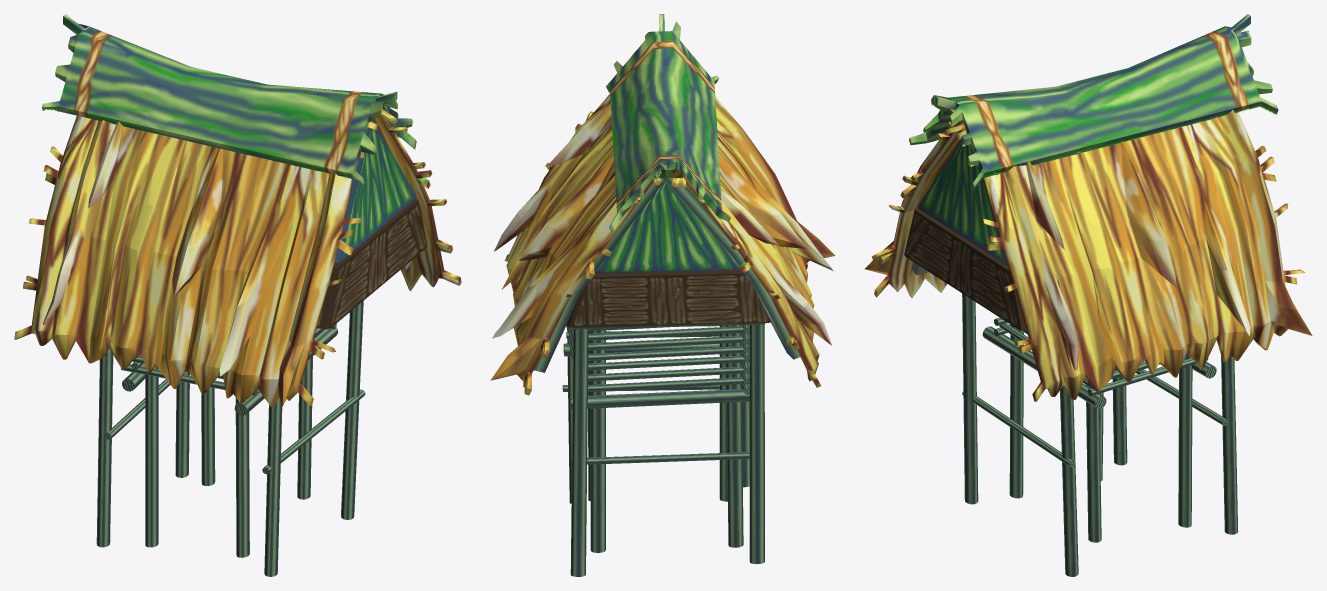
Rendered from Maison III.FBX.
The picture shows the model from 3 angles, left to right: view 1: azimuth 30°, elevation 25°; view 2: azimuth 150°, elevation 25°; view 3: azimuth 270°, elevation 25°; orthographic projection. The views are drawn at different scales.
Visible parts, largest first — view 1: ModeleMaison004; view 2: ModeleMaison004; view 3: ModeleMaison004.
Part boxes in pixels (<box>): ModeleMaison004: <box>14,14,461,576</box>; ModeleMaison004: <box>490,14,835,576</box>; ModeleMaison004: <box>864,14,1312,576</box>.
Bounding box in the file's own units: 337 × 394 × 342.
